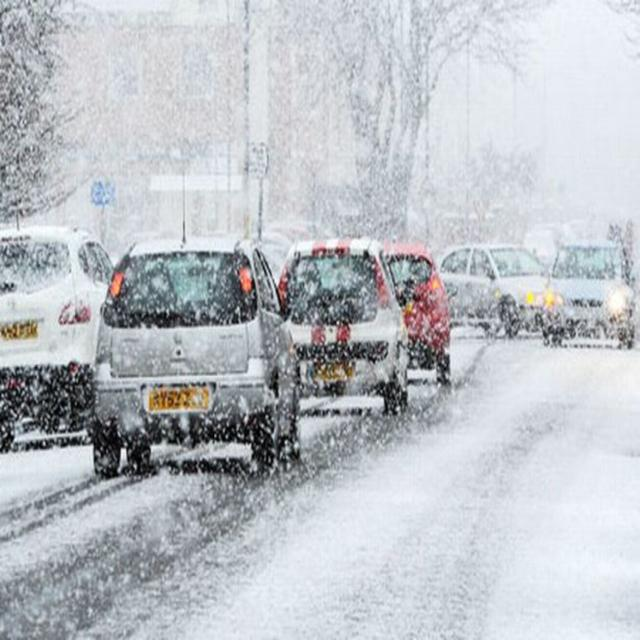car: (93, 238, 300, 478), (1, 220, 113, 442), (276, 244, 410, 418), (378, 246, 454, 388), (436, 242, 558, 326), (548, 240, 634, 344), (526, 221, 570, 260)
